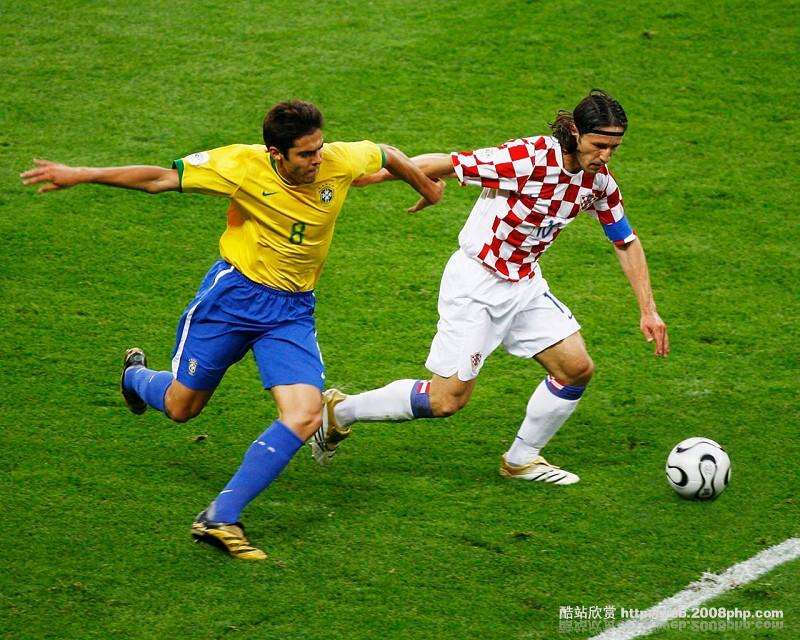football: (666, 436, 731, 503)
